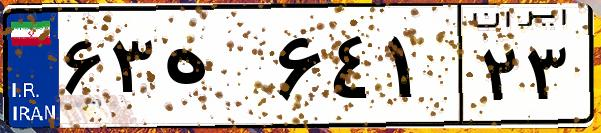1: (385, 28, 445, 110)
2: (475, 38, 525, 113)
3: (525, 38, 570, 115), (110, 28, 158, 98)
4: (330, 28, 385, 110)
6: (270, 28, 330, 110), (57, 26, 110, 100)
ه: (158, 20, 270, 120)
